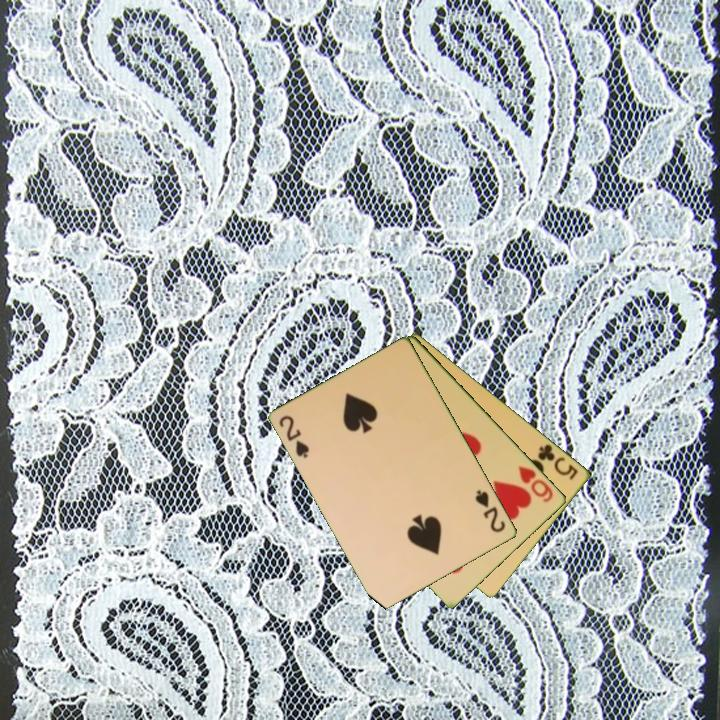2s: (472, 486, 509, 536), (276, 412, 313, 461)
5c: (534, 440, 582, 483)
6h: (515, 462, 556, 505)
